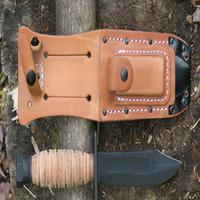knife: (12, 144, 191, 196)
